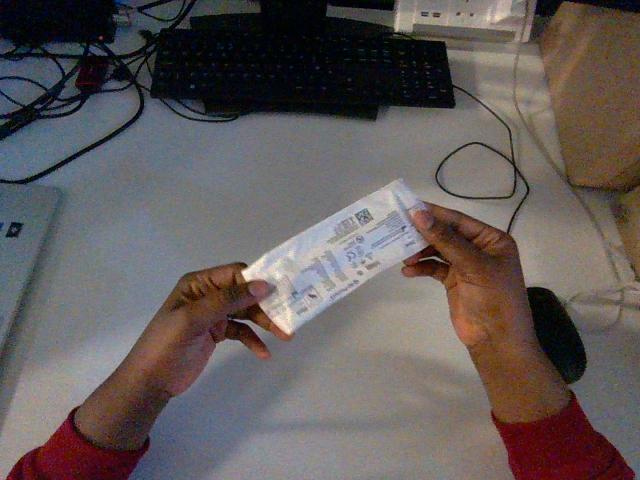syringe: (242, 179, 426, 333)
